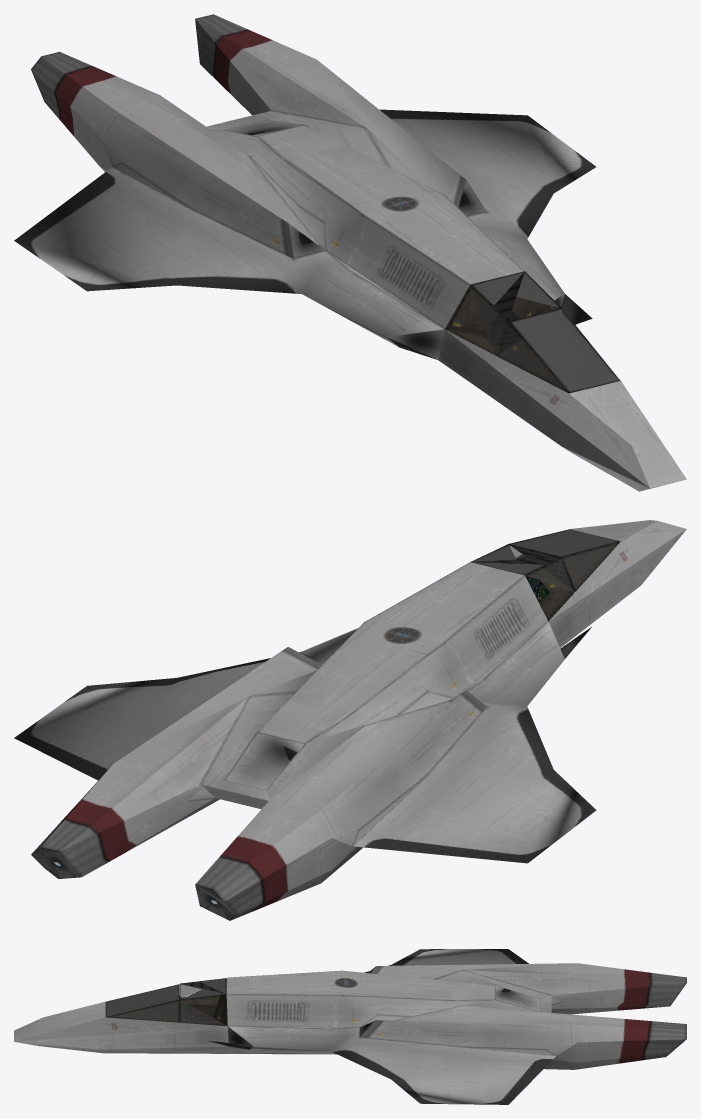
The model's file is Nave3.fbx.
The picture shows the model from 3 angles, top to bottom: view 1: azimuth 30°, elevation 25°; view 2: azimuth 150°, elevation 25°; view 3: azimuth 270°, elevation 25°; orthographic projection. The views are drawn at different scales.
Parts seen in each view (by area): view 1: polySurface34, polySurface49, polySurface60, polySurface67, polySurface48, polySurface68; view 2: polySurface34, polySurface49, polySurface60, polySurface67, polySurface48, polySurface68; view 3: polySurface34, polySurface60, polySurface67, polySurface49, polySurface68, polySurface48.
Part boxes in pixels (<box>): polySurface34: <box>14,14,686,491</box>; polySurface49: <box>496,308,620,393</box>; polySurface60: <box>445,273,567,392</box>; polySurface67: <box>497,323,618,392</box>; polySurface48: <box>445,271,561,329</box>; polySurface68: <box>471,287,558,354</box>; polySurface34: <box>14,520,686,920</box>; polySurface49: <box>509,529,620,591</box>; polySurface60: <box>520,542,618,620</box>; polySurface67: <box>510,529,619,590</box>; polySurface48: <box>470,544,561,621</box>; polySurface68: <box>526,558,574,591</box>; polySurface34: <box>14,949,686,1104</box>; polySurface60: <box>107,978,227,1026</box>; polySurface67: <box>106,985,179,1022</box>; polySurface49: <box>105,984,179,1022</box>; polySurface68: <box>180,984,225,1025</box>; polySurface48: <box>179,978,227,1025</box>.
Bounding box in the file's own units: 6.71 × 1.32 × 12.25.
Materials: 3 (3 with a texture image).
